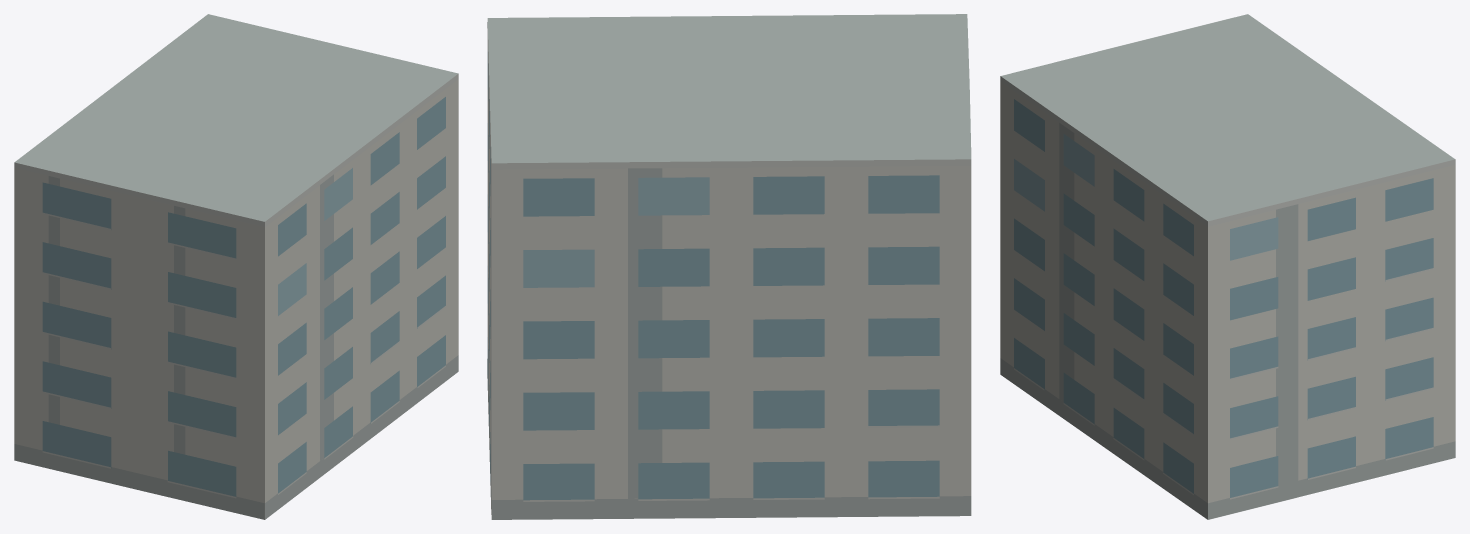
Rendered from survey-upis-32974879.glb.
The picture shows the model from 3 angles, left to right: view 1: azimuth 30°, elevation 25°; view 2: azimuth 150°, elevation 25°; view 3: azimuth 270°, elevation 25°; orthographic projection. The views are drawn at different scales.
Parts seen in each view (by area): view 1: survey-upis-32974879.tmp; view 2: survey-upis-32974879.tmp; view 3: survey-upis-32974879.tmp.
Boxes of the visible parts, box(x1,y1,x2,y2) form: survey-upis-32974879.tmp: box(14, 14, 458, 519); survey-upis-32974879.tmp: box(487, 14, 971, 519); survey-upis-32974879.tmp: box(1000, 14, 1455, 519).
Bounding box in the file's own units: 20.5 × 13.75 × 19.01.
